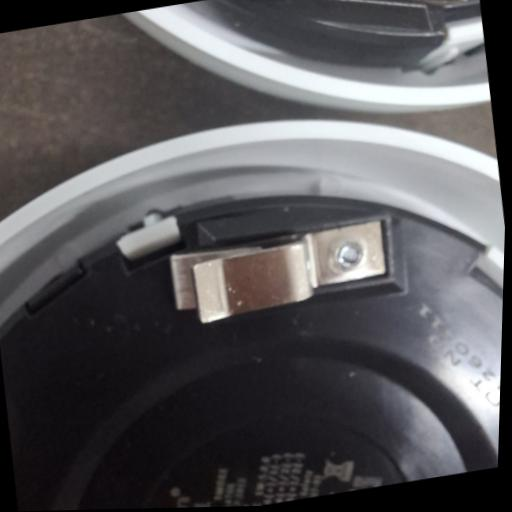yayli: (166, 216, 396, 328)
